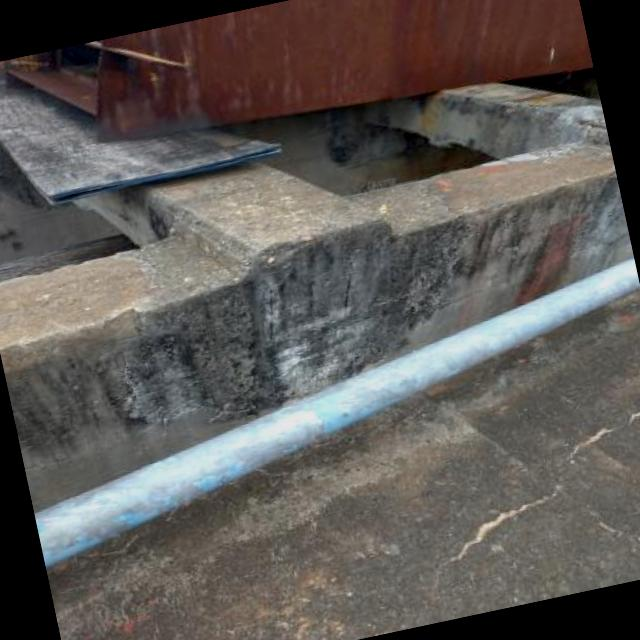gas: (35, 256, 640, 565)
